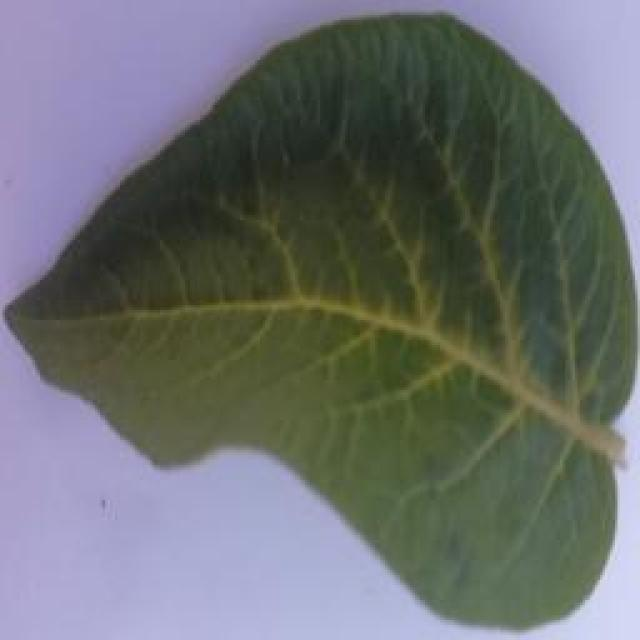Potato_Healthy: (5, 11, 621, 628)
